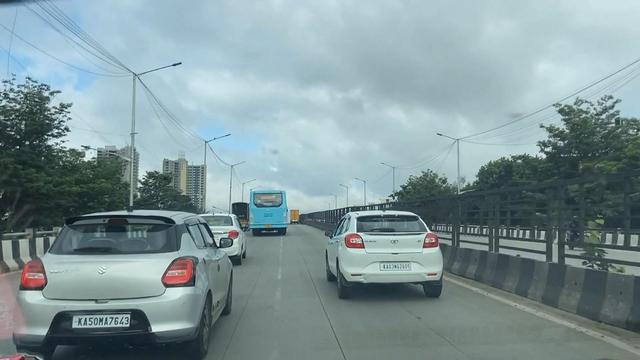HMV: (245, 179, 293, 243)
LMV: (13, 188, 236, 360), (318, 205, 453, 304)
